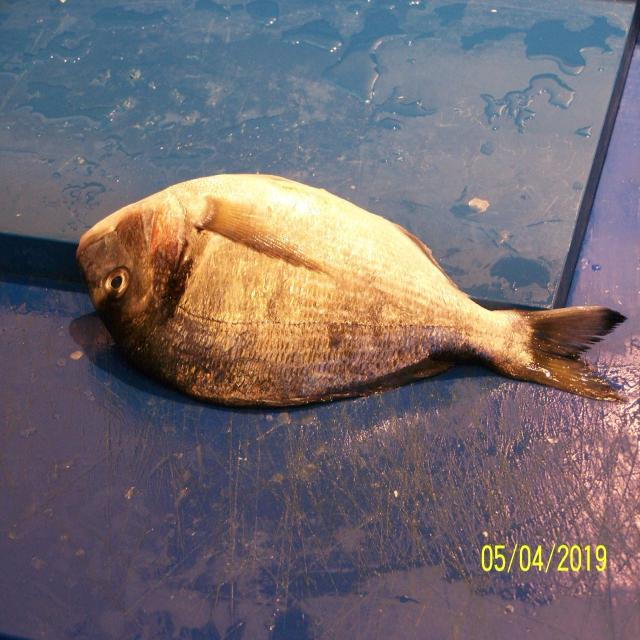Gilt-Head-Bream-c-ipura-: (74, 174, 625, 412)
